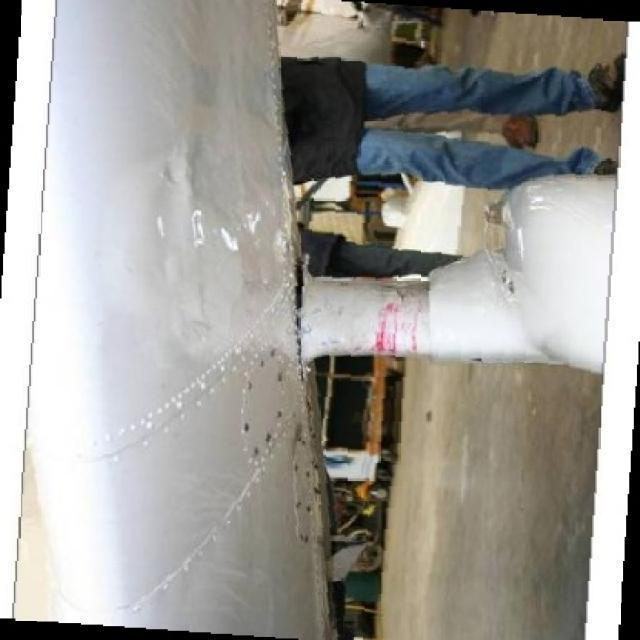dent: (186, 205, 214, 256)
